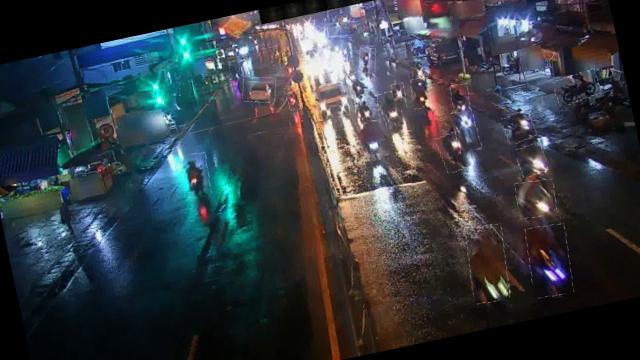Bike: (460, 221, 514, 304), (522, 221, 577, 299), (514, 177, 560, 220), (552, 69, 602, 106), (436, 130, 474, 174), (180, 152, 212, 198), (451, 108, 481, 154), (502, 109, 536, 144), (514, 142, 548, 177), (356, 121, 385, 158), (377, 89, 404, 128), (354, 94, 382, 125), (409, 77, 433, 110), (448, 82, 472, 114), (344, 70, 370, 98), (356, 45, 379, 74), (390, 82, 408, 109), (284, 84, 300, 111)
Car: (312, 81, 350, 121), (240, 72, 279, 105)
